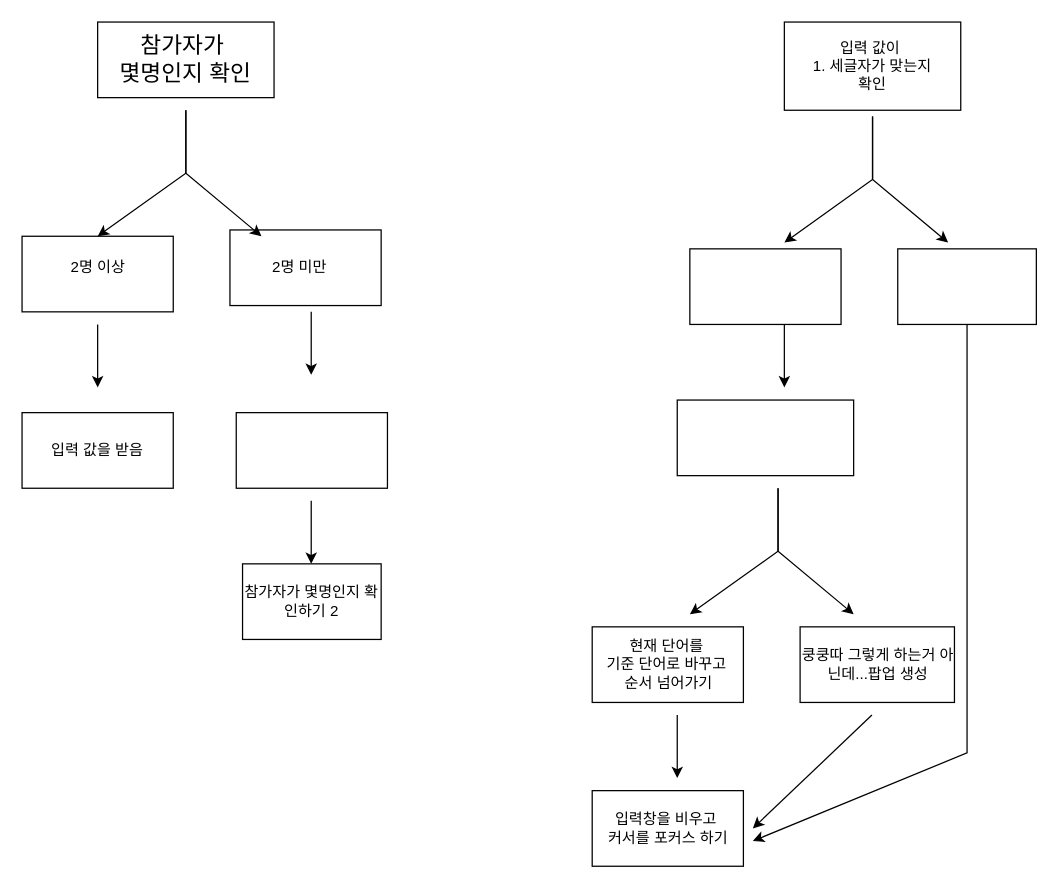
The diagram is 1058 pixels wide and 888 high, and some of its shapes have lost their labels. Each missing label, with the centre of its shape:
"2. 기준 단어가 없거나 첫글자가 기준 단어의 맨 앞글자가 맞는지 확인" belongs at (x=765, y=437).
"기준 충족" belongs at (x=765, y=286).
"세글자가 아닙니다 팝업 생성" belongs at (x=966, y=286).
"혼자서는 할 수 없어요 팝업 생성" belongs at (x=311, y=449).
